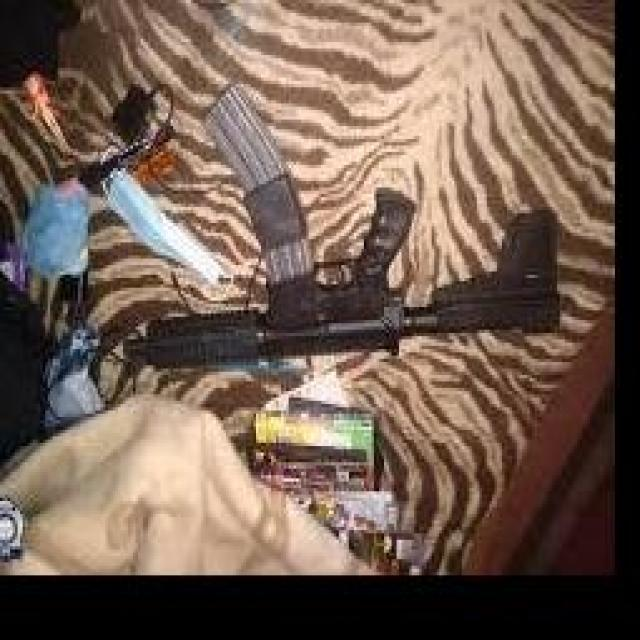weapon: (122, 80, 562, 372)
